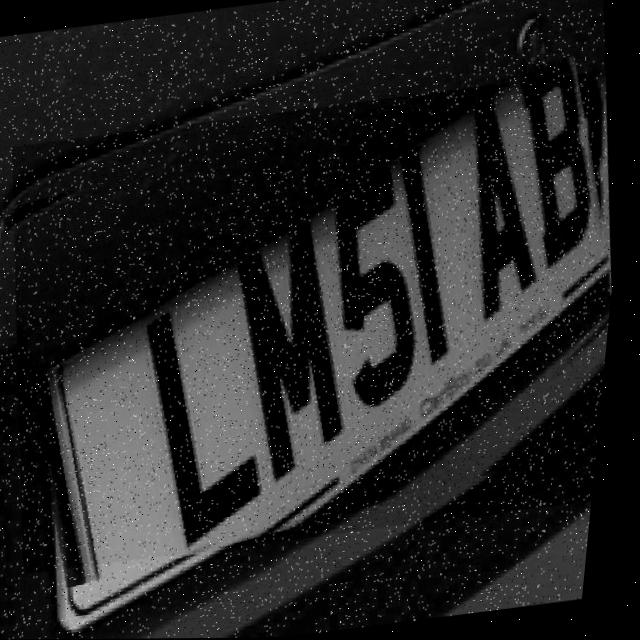LicensePlate: (0, 70, 634, 574)
